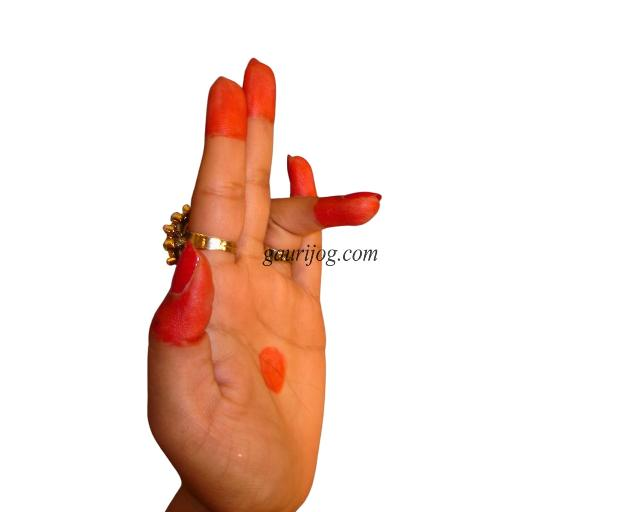tripataka: (146, 61, 381, 512)
